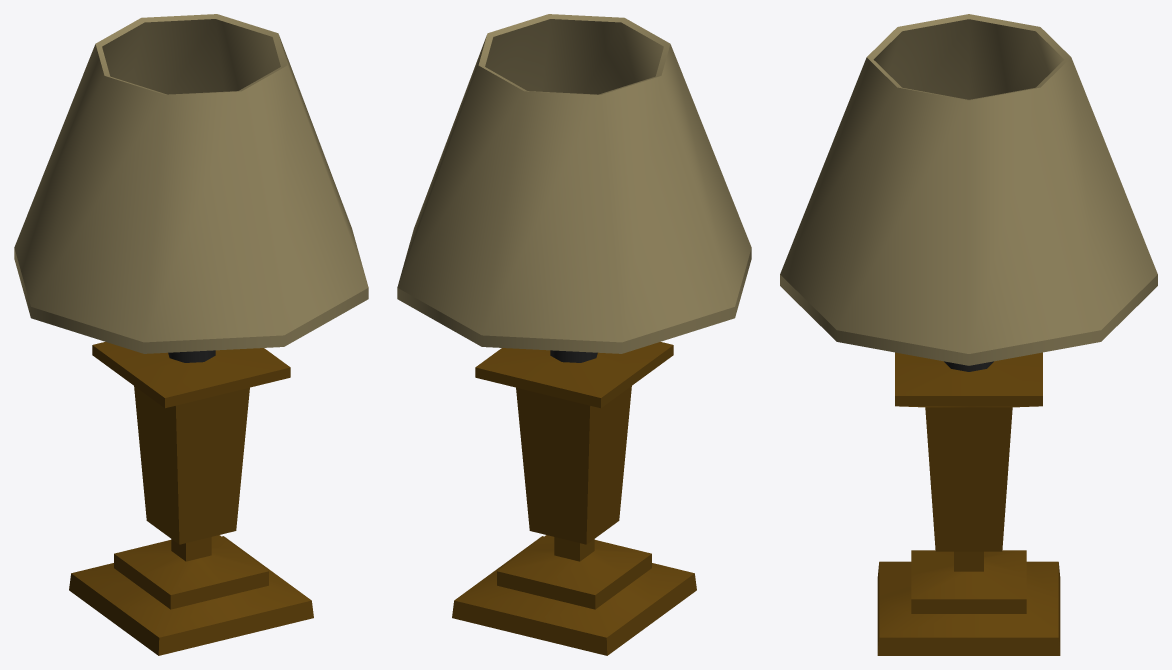
Rendered from TableLamp.fbx.
3 renders of one model, left to right at view 1: azimuth 30°, elevation 25°; view 2: azimuth 150°, elevation 25°; view 3: azimuth 270°, elevation 25°, orthographic.
Visible parts, largest first — view 1: TableLamp.Shade, TableLamp; view 2: TableLamp.Shade, TableLamp; view 3: TableLamp.Shade, TableLamp.
Part boxes in pixels (<box>): TableLamp.Shade: <box>14,14,368,353</box>; TableLamp: <box>69,342,313,655</box>; TableLamp.Shade: <box>397,14,751,353</box>; TableLamp: <box>452,342,696,655</box>; TableLamp.Shade: <box>780,14,1157,365</box>; TableLamp: <box>877,352,1060,655</box>.
Size of the model in its own units: 0.4134 by 0.6761 by 0.4134.
